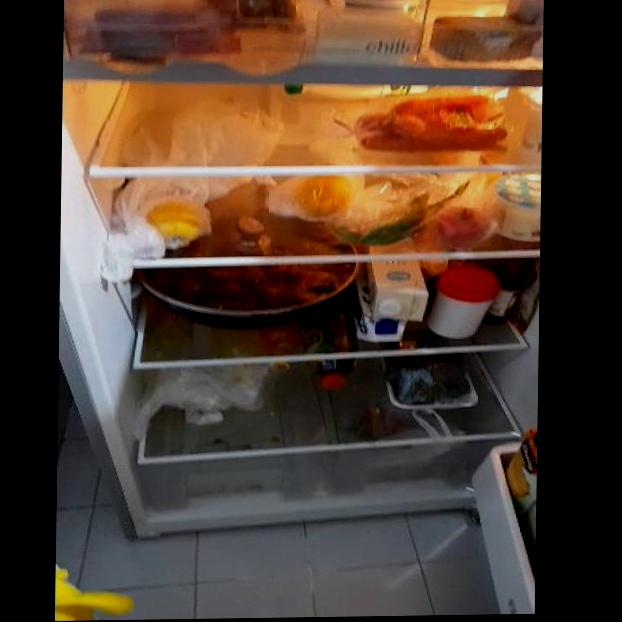bread: (201, 0, 306, 34)
broccoli: (395, 357, 473, 407)
butter: (432, 13, 539, 60)
carrot: (353, 99, 508, 149)
cheese: (308, 16, 422, 61)
green chilies: (343, 206, 433, 244)
juice: (507, 431, 536, 505)
lemon: (144, 198, 209, 244), (297, 175, 353, 216)
milk: (355, 261, 425, 339), (285, 78, 433, 99)
salami: (92, 0, 219, 37)
tomato: (431, 203, 490, 247)
yoghurt: (491, 172, 543, 237), (345, 0, 426, 18)
